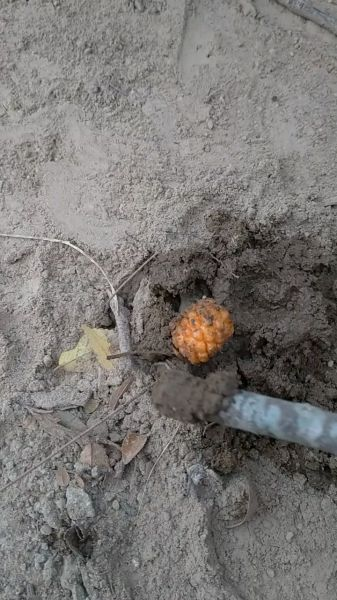eggs: (166, 297, 237, 364)
